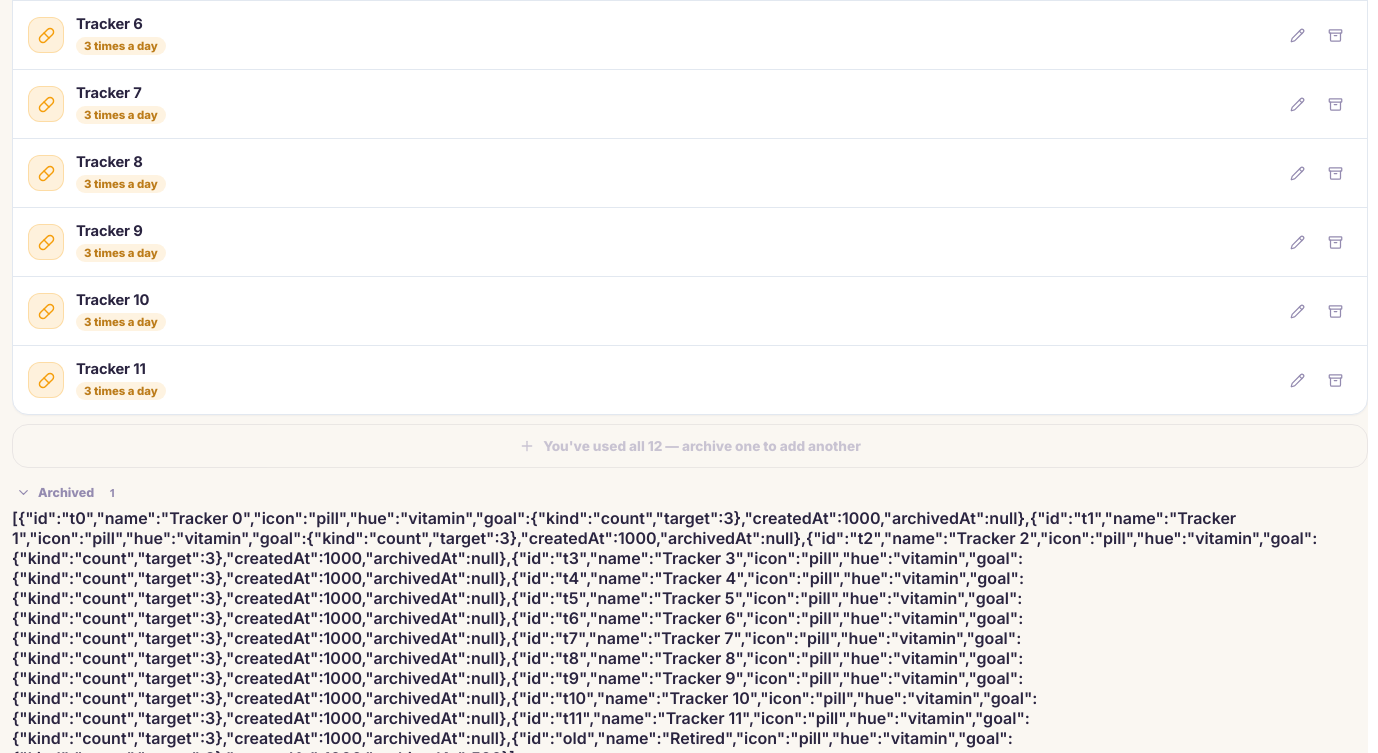
Scenario: managing custom trackers in Settings › will not restore past the cap
(page scrolled)
Click the button "Archived 1".
click(70, 493)  # box [12,477,128,508]
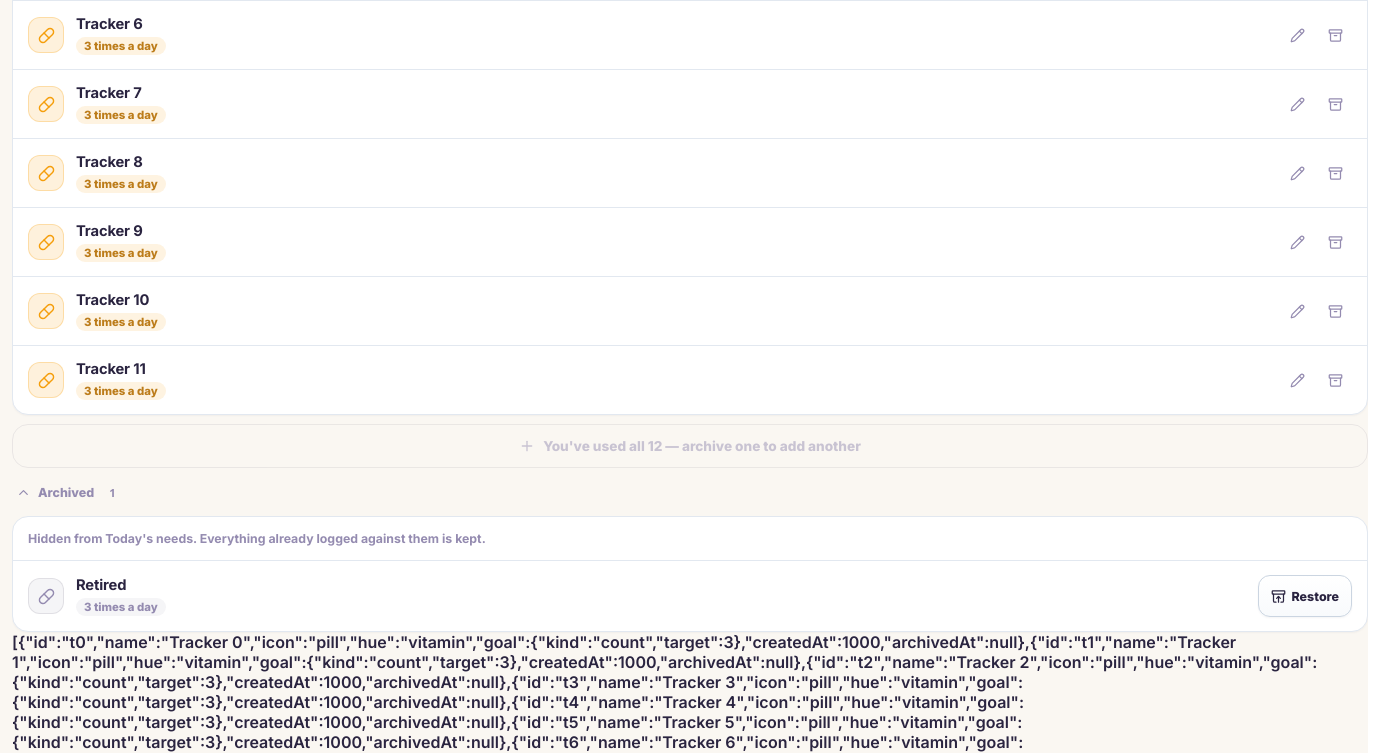
Click the button with aria-label "Restore Retired".
click(1305, 596)  # box [1258,575,1352,617]
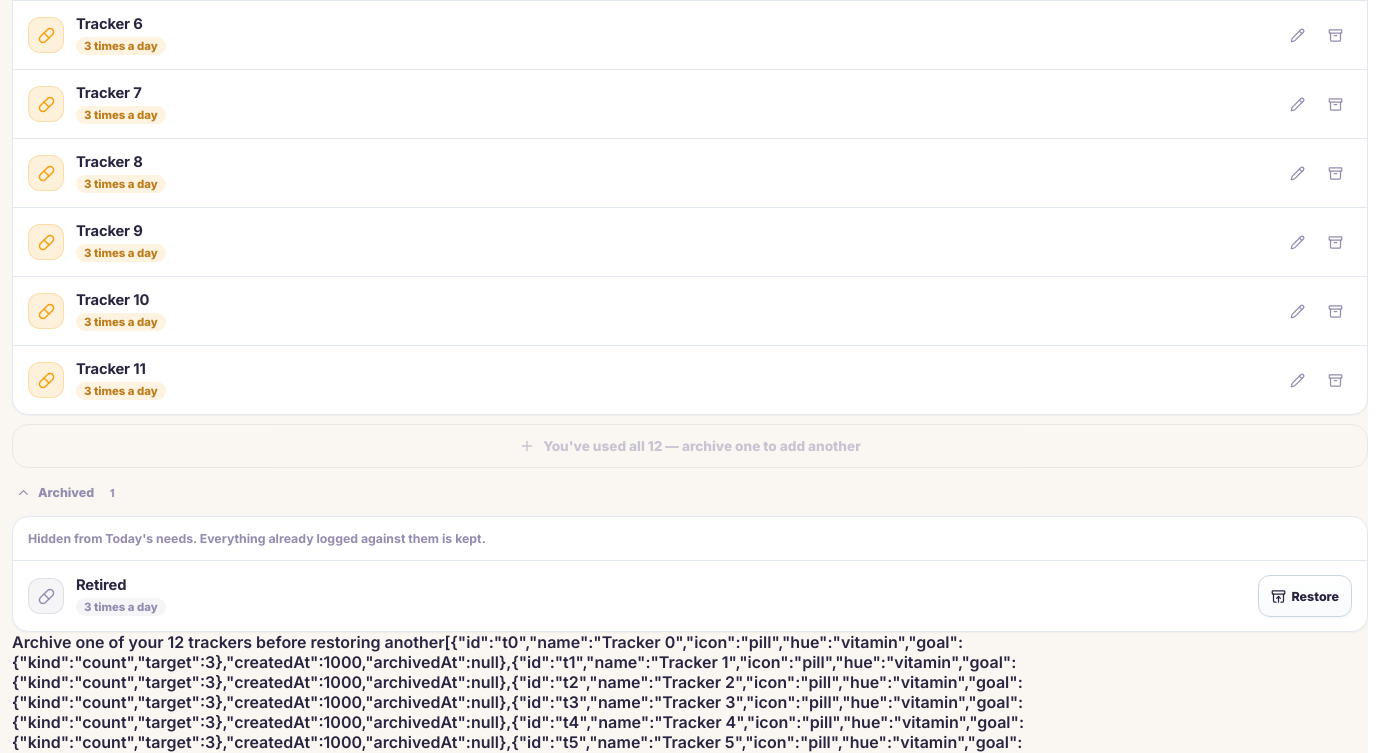
Now the text with test id "toast" shows "12", box [12,632,445,652]
